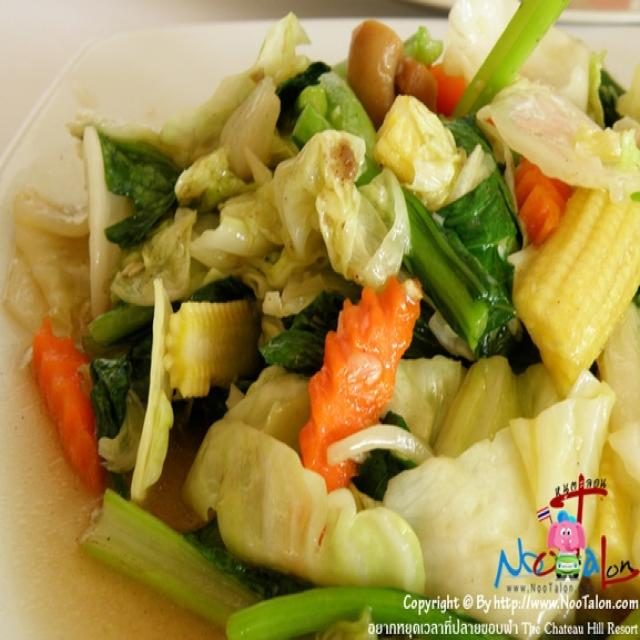蔬菜料理: (44, 41, 614, 602)
